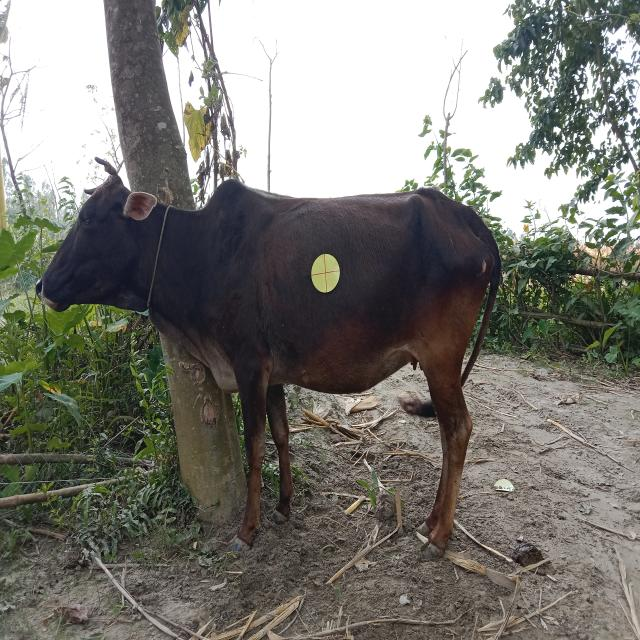badan_sapi: (200, 197, 488, 389)
sapi: (28, 148, 520, 565)
